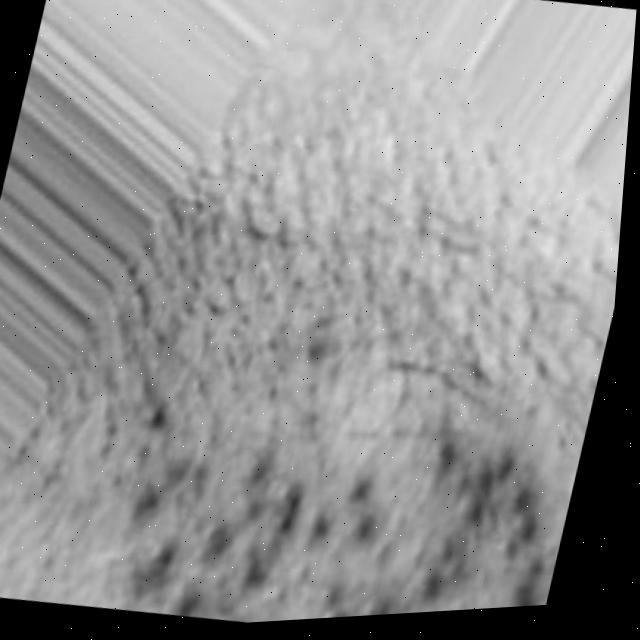Shingles: (77, 360, 591, 633)
